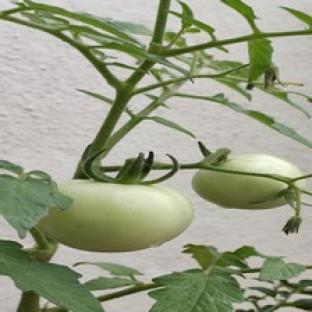Tomato: (38, 180, 193, 252), (193, 170, 288, 208)
